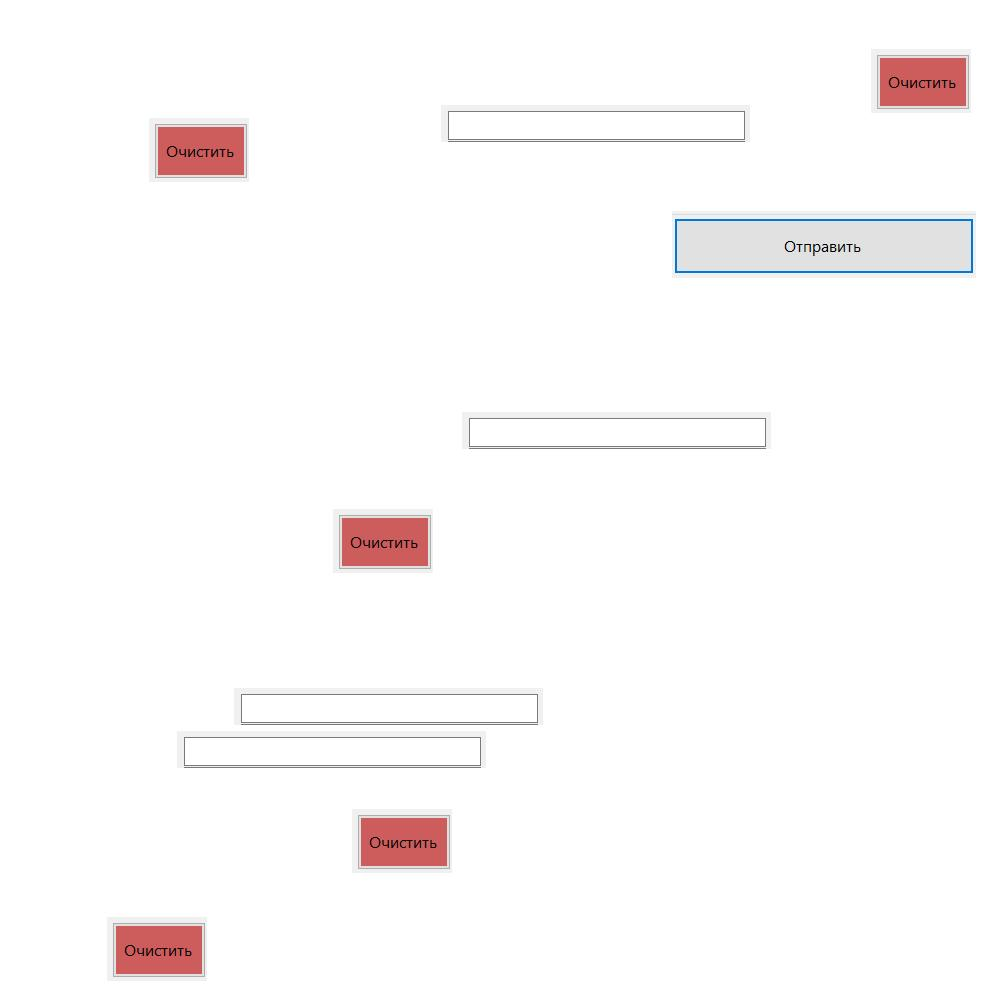Button: (672, 211, 976, 278), (352, 809, 452, 873), (871, 49, 971, 113), (107, 917, 207, 981), (333, 509, 433, 573), (149, 118, 249, 182)
EditText-: (462, 412, 771, 449), (234, 688, 543, 725), (441, 105, 750, 142), (177, 731, 486, 768)
